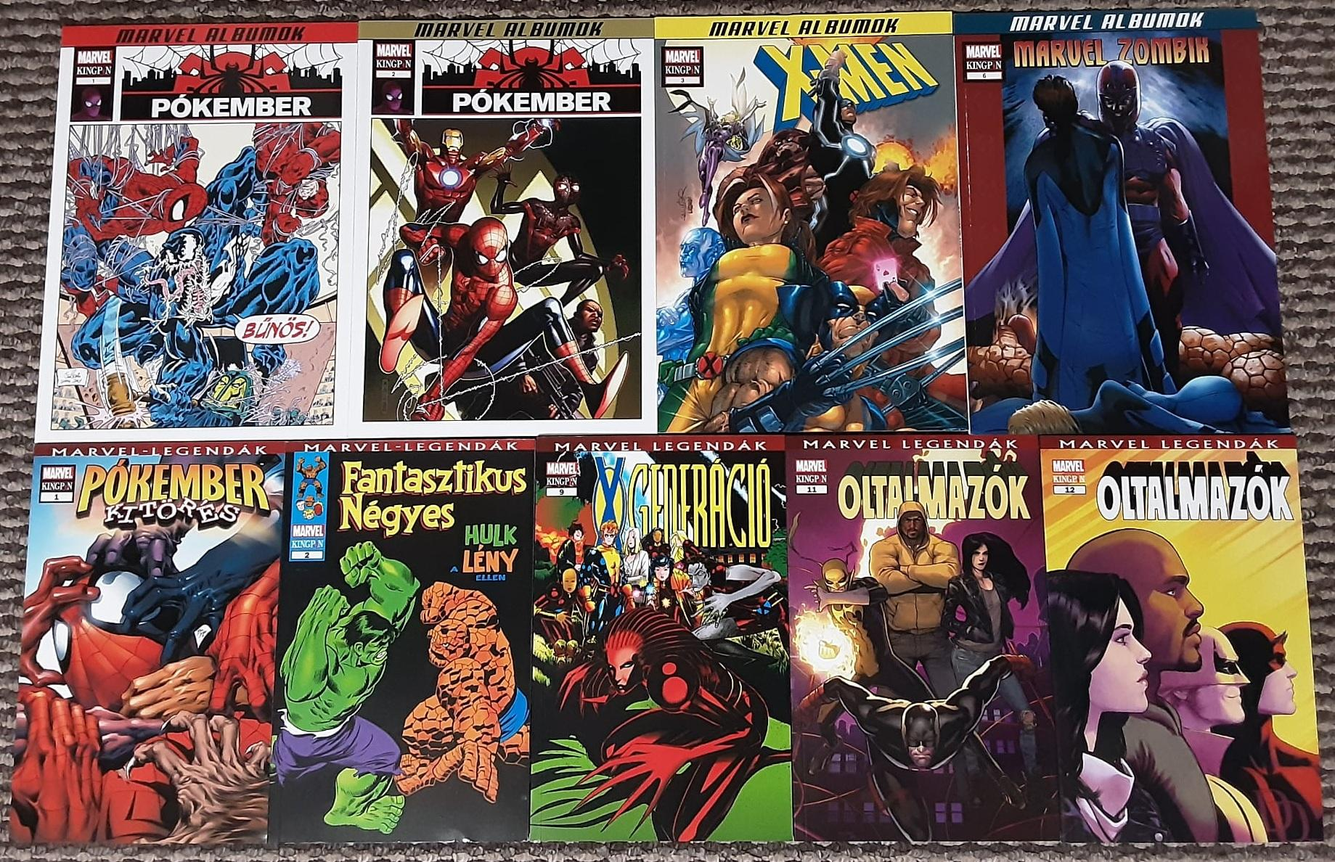comic: (956, 4, 1288, 441), (36, 7, 358, 456), (646, 9, 967, 439), (356, 20, 651, 435), (1040, 427, 1323, 851), (9, 430, 287, 855), (786, 430, 1059, 845), (271, 433, 536, 849), (531, 436, 792, 840)
